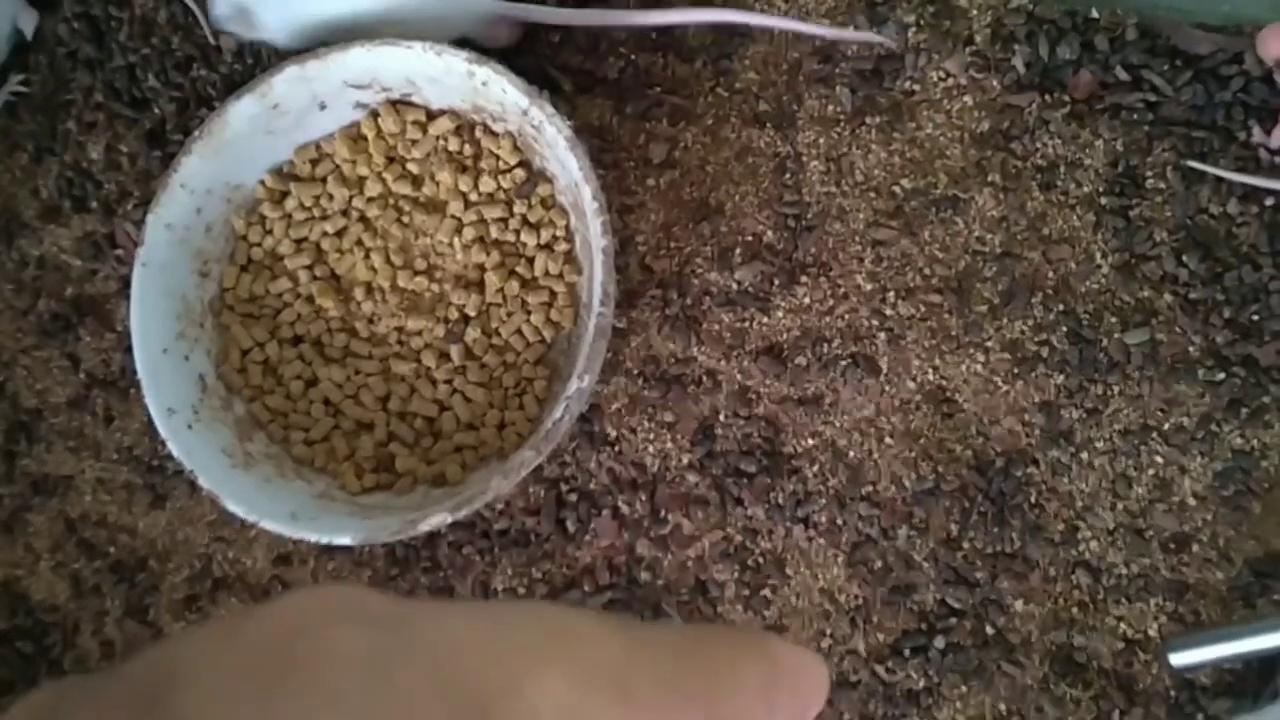rat: (207, 0, 888, 50)
